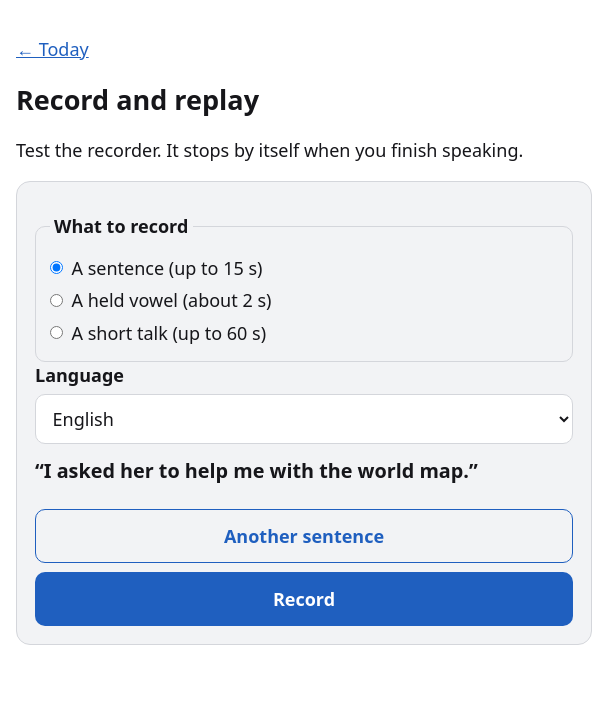
Test case: record screen › Recorder_TakeSavedWithPromptAndReadings
Click the button "Record": (304, 599) [35,572,573,626]
(page scrolled)
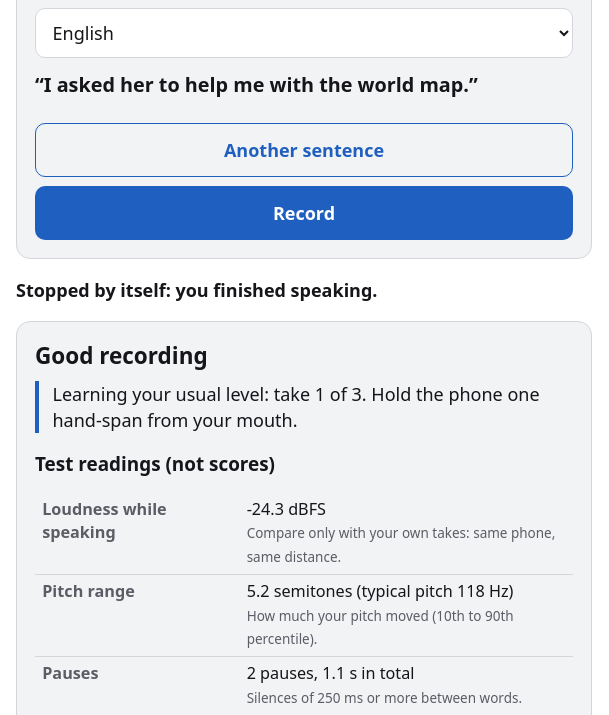
Now the heading "Good recording" is shown, box [35,340,208,371]
